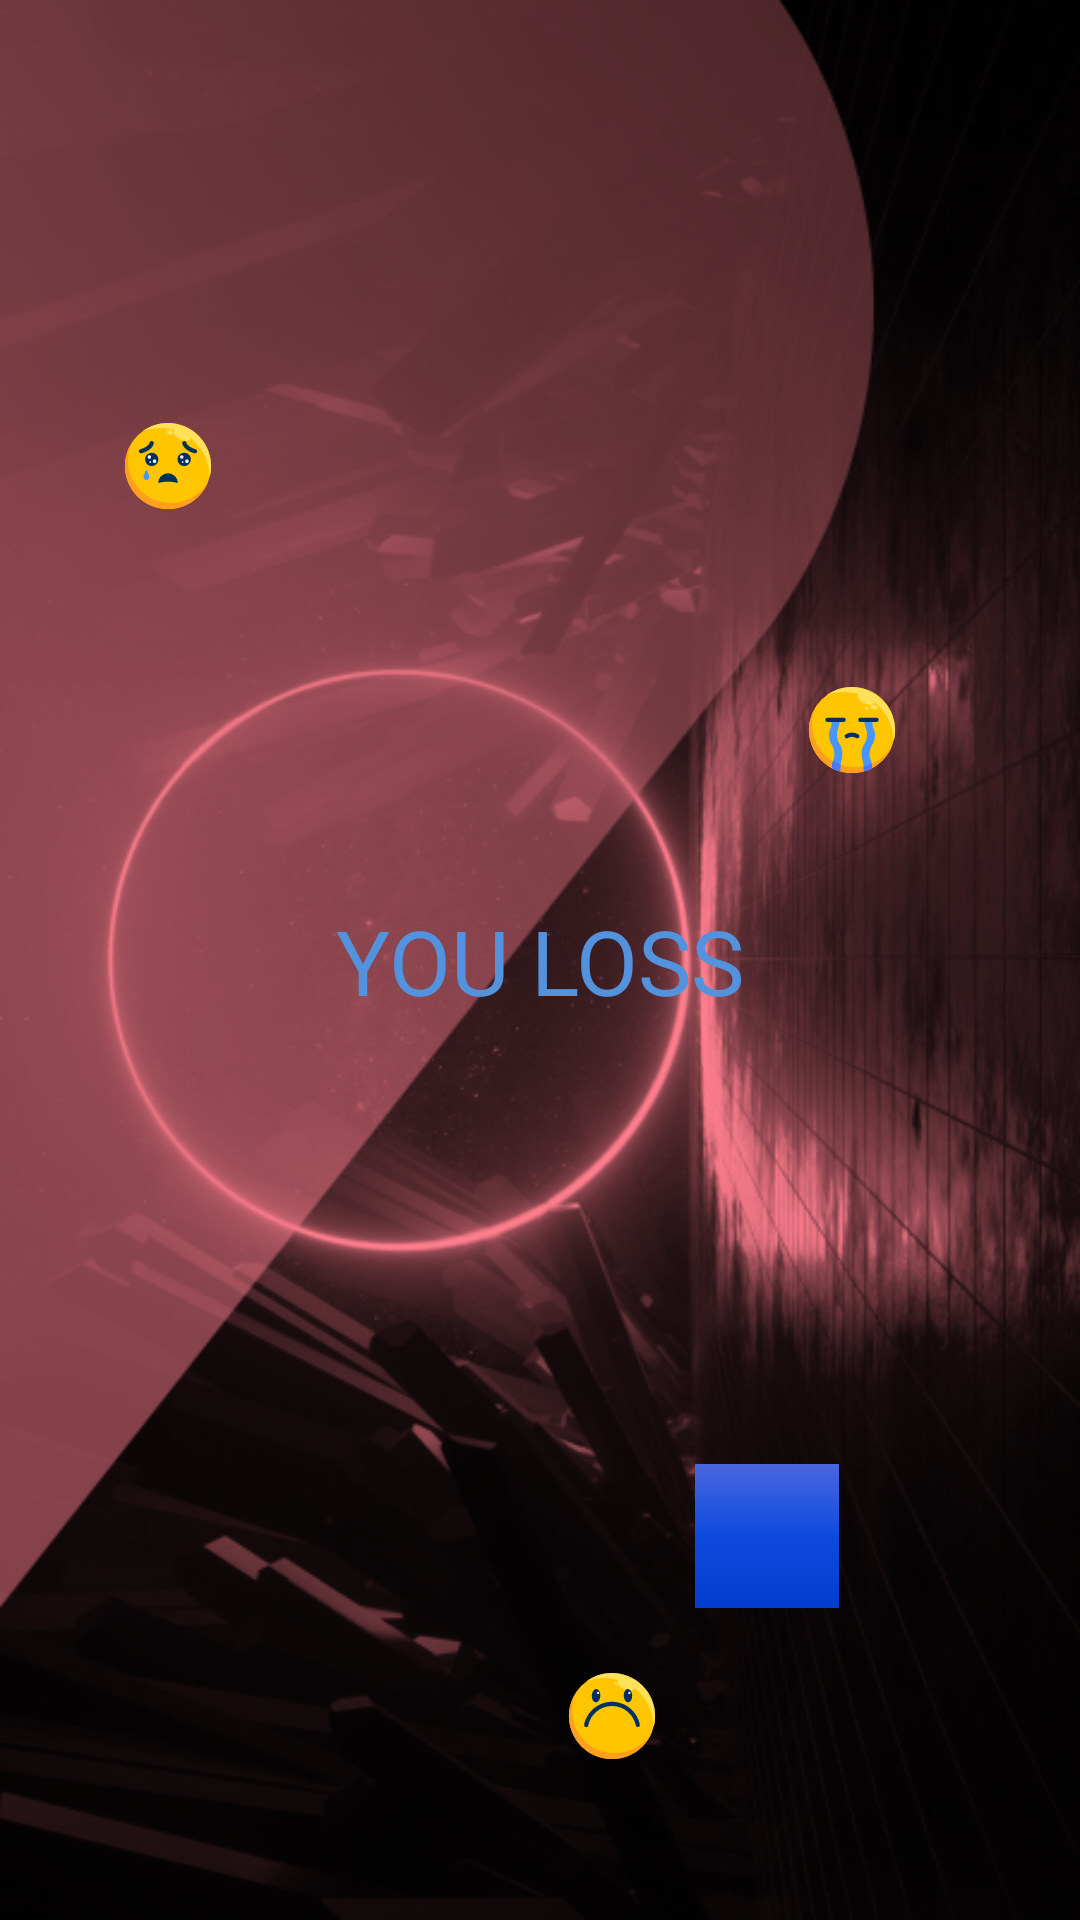

Locate icon controls on the screen. Image size 1080*1920, boxes as (x1, y1, x2, y2).
cry: (780, 658, 924, 802)
